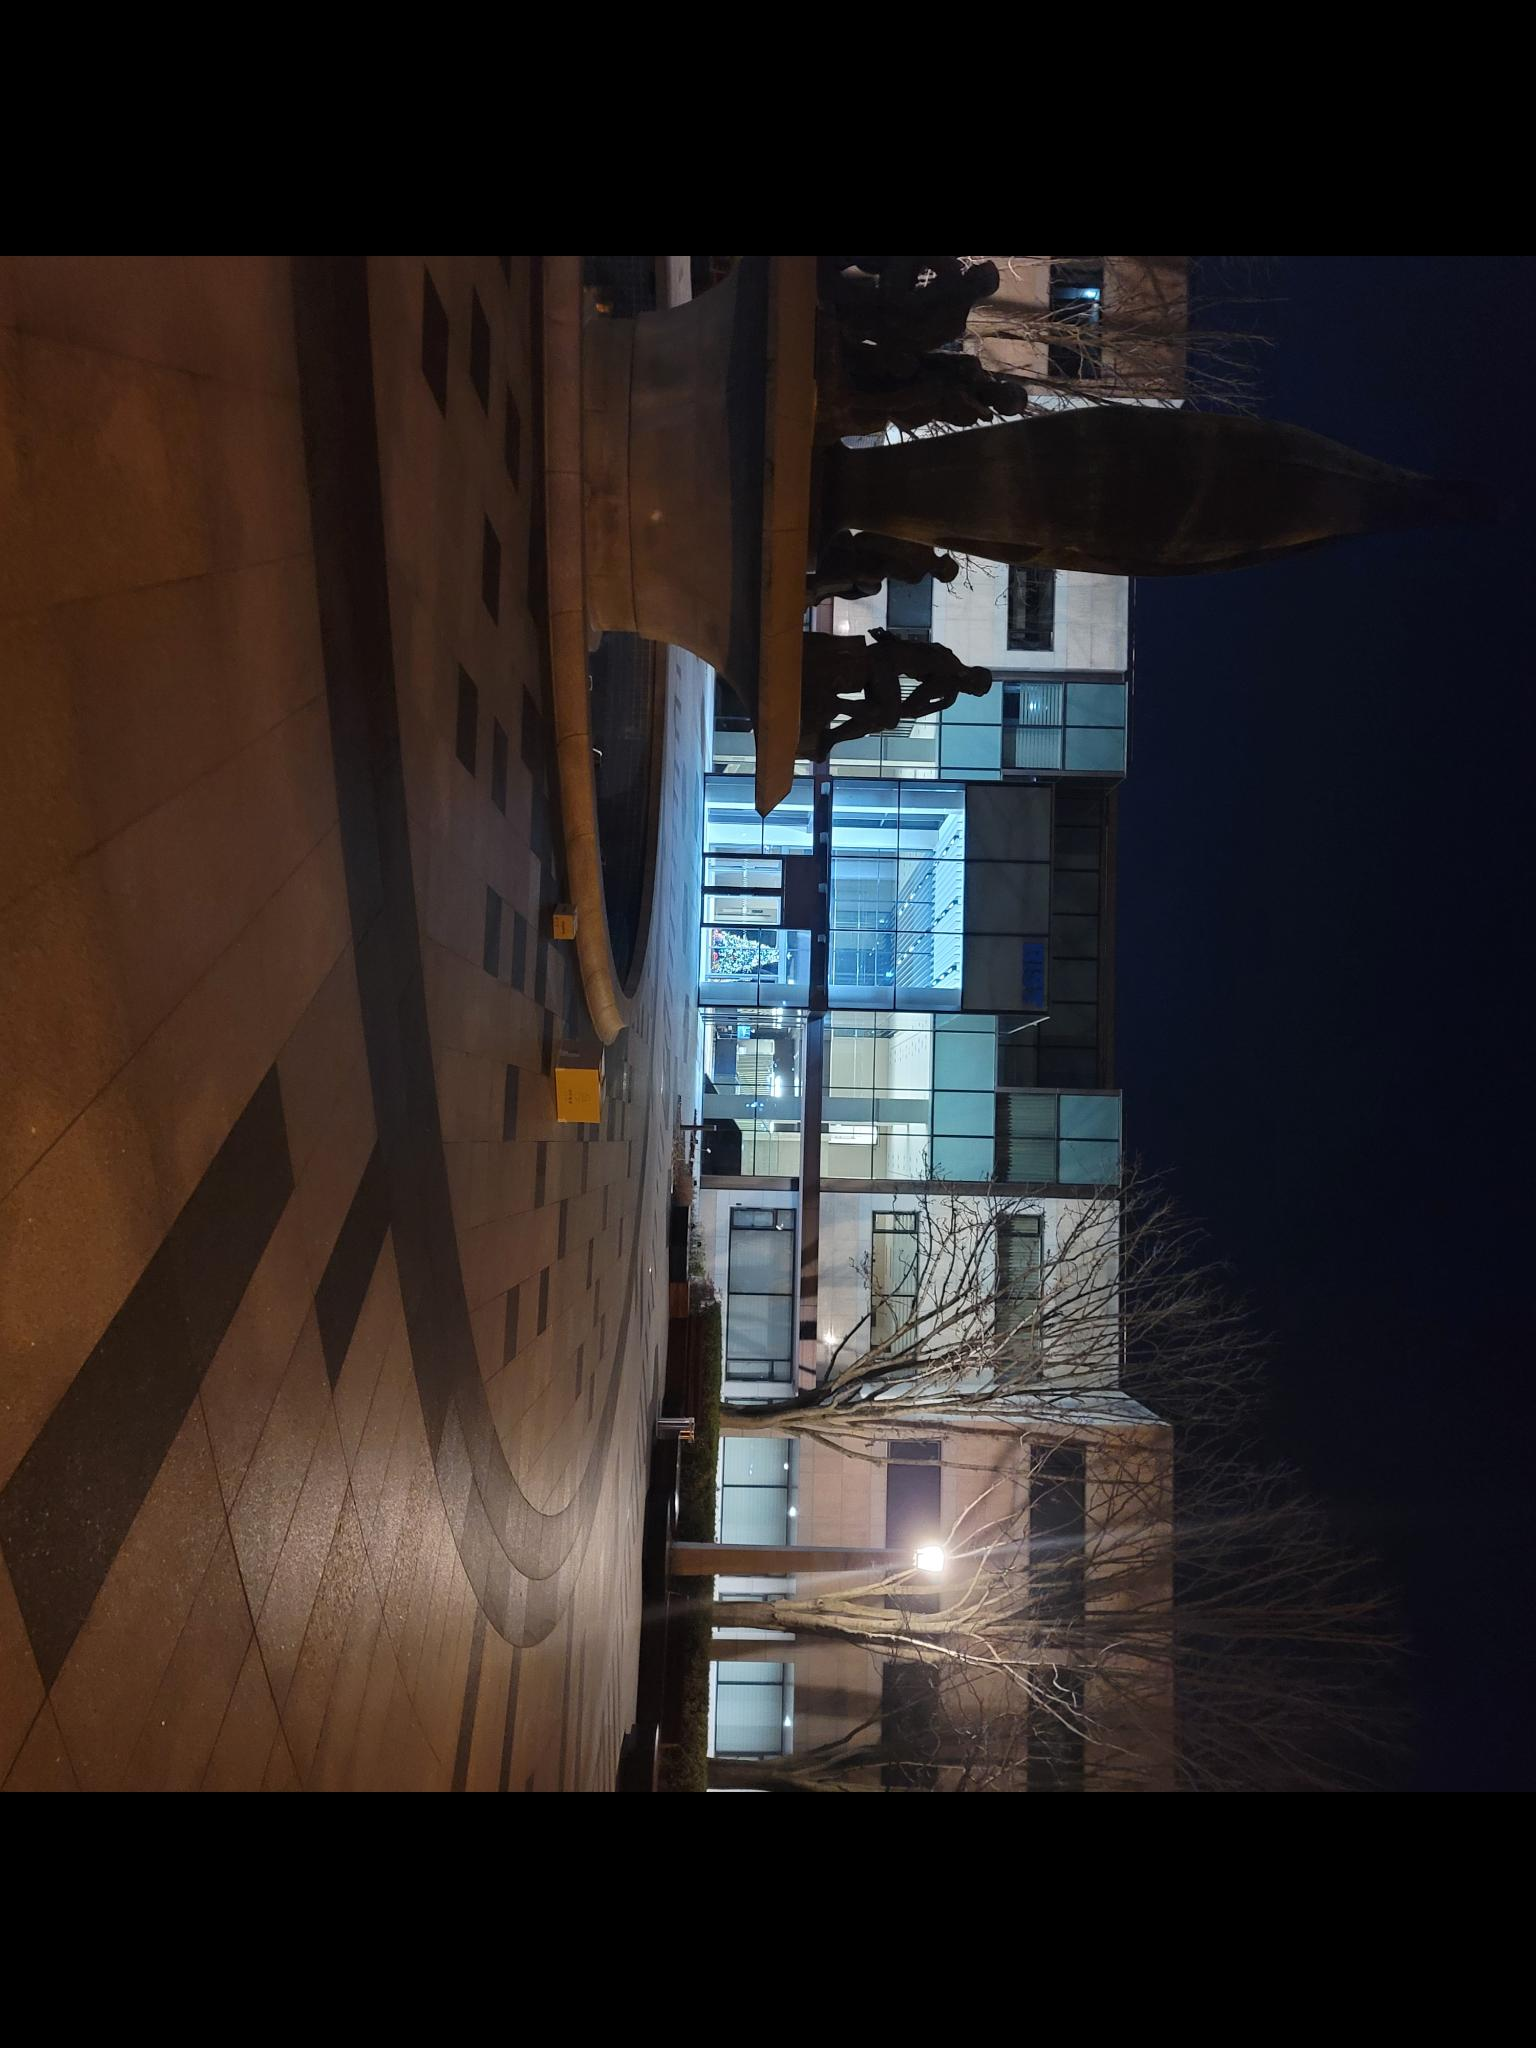Box: (549, 1048, 620, 1132), (545, 906, 582, 955)
